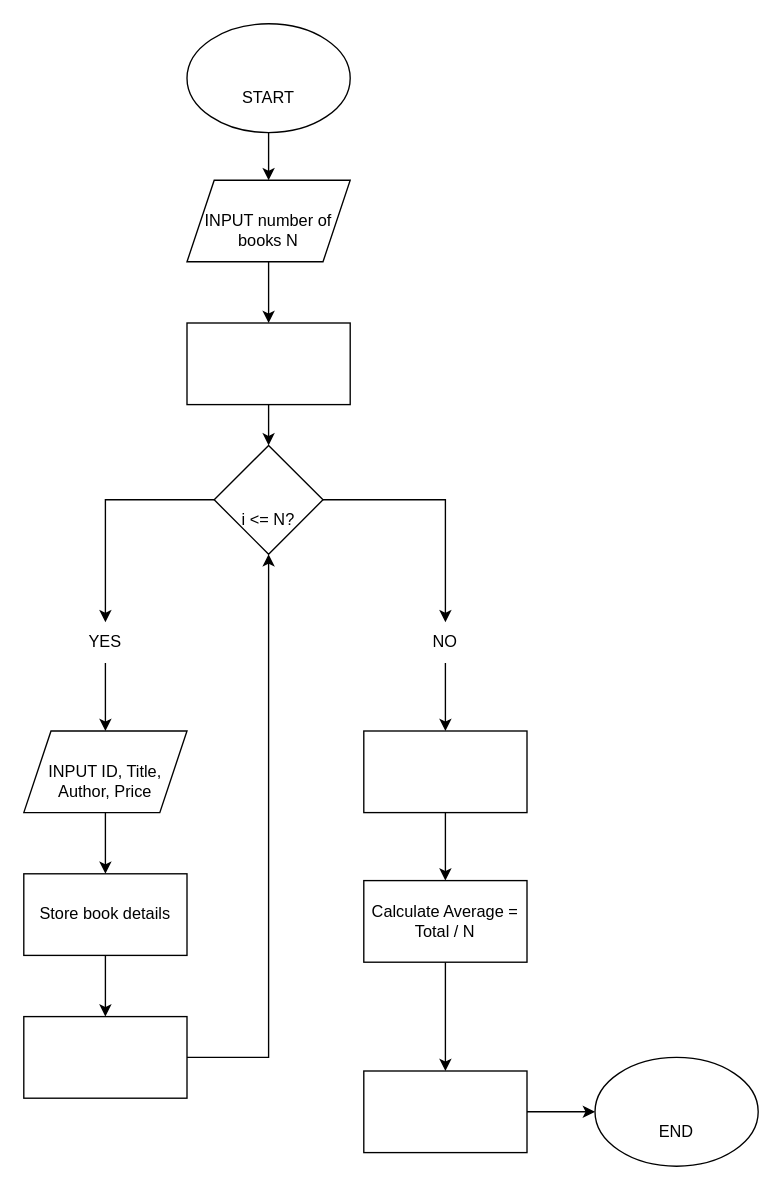
Some shapes in this 782 by 1190 pixel diagram are drawn without their labels. Here are the shapes that lost their labels. From the top down, the centre of each, then its label:
At (x=268, y=363): "Set i = 1".
At (x=444, y=771): "Display all book details".
At (x=104, y=1056): "Set i = i + 1".
At (x=444, y=1111): "Display Total Price & Average Price".
